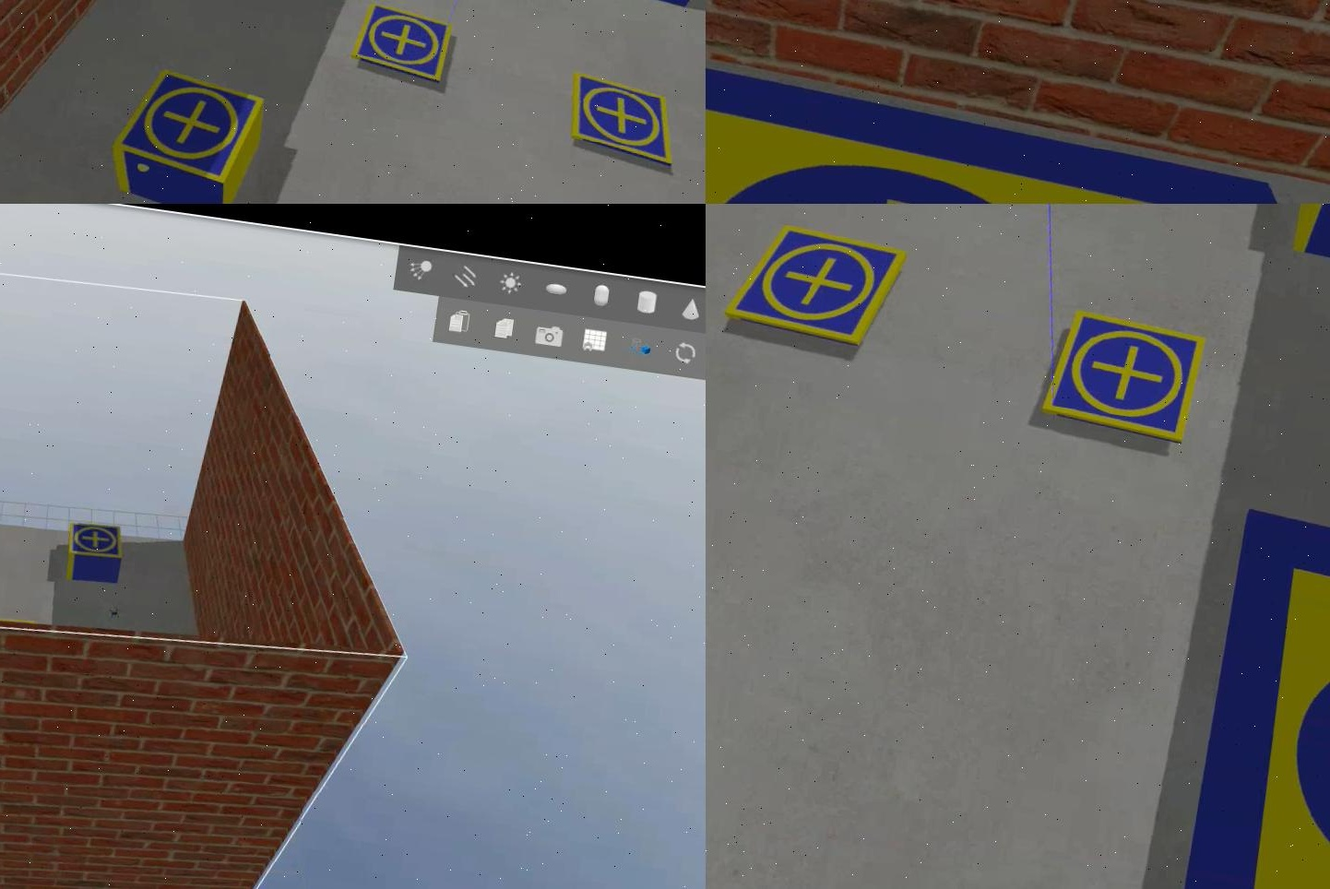large_base: (705, 1, 1328, 205), (1156, 505, 1328, 889)
small_base: (717, 219, 909, 352), (1039, 306, 1207, 446), (106, 64, 265, 189), (563, 72, 681, 170), (350, 6, 458, 89), (62, 516, 125, 563)
